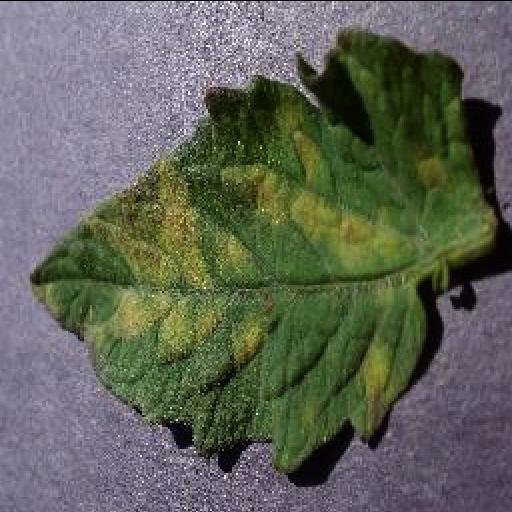disease_tomato: (30, 29, 496, 473)
